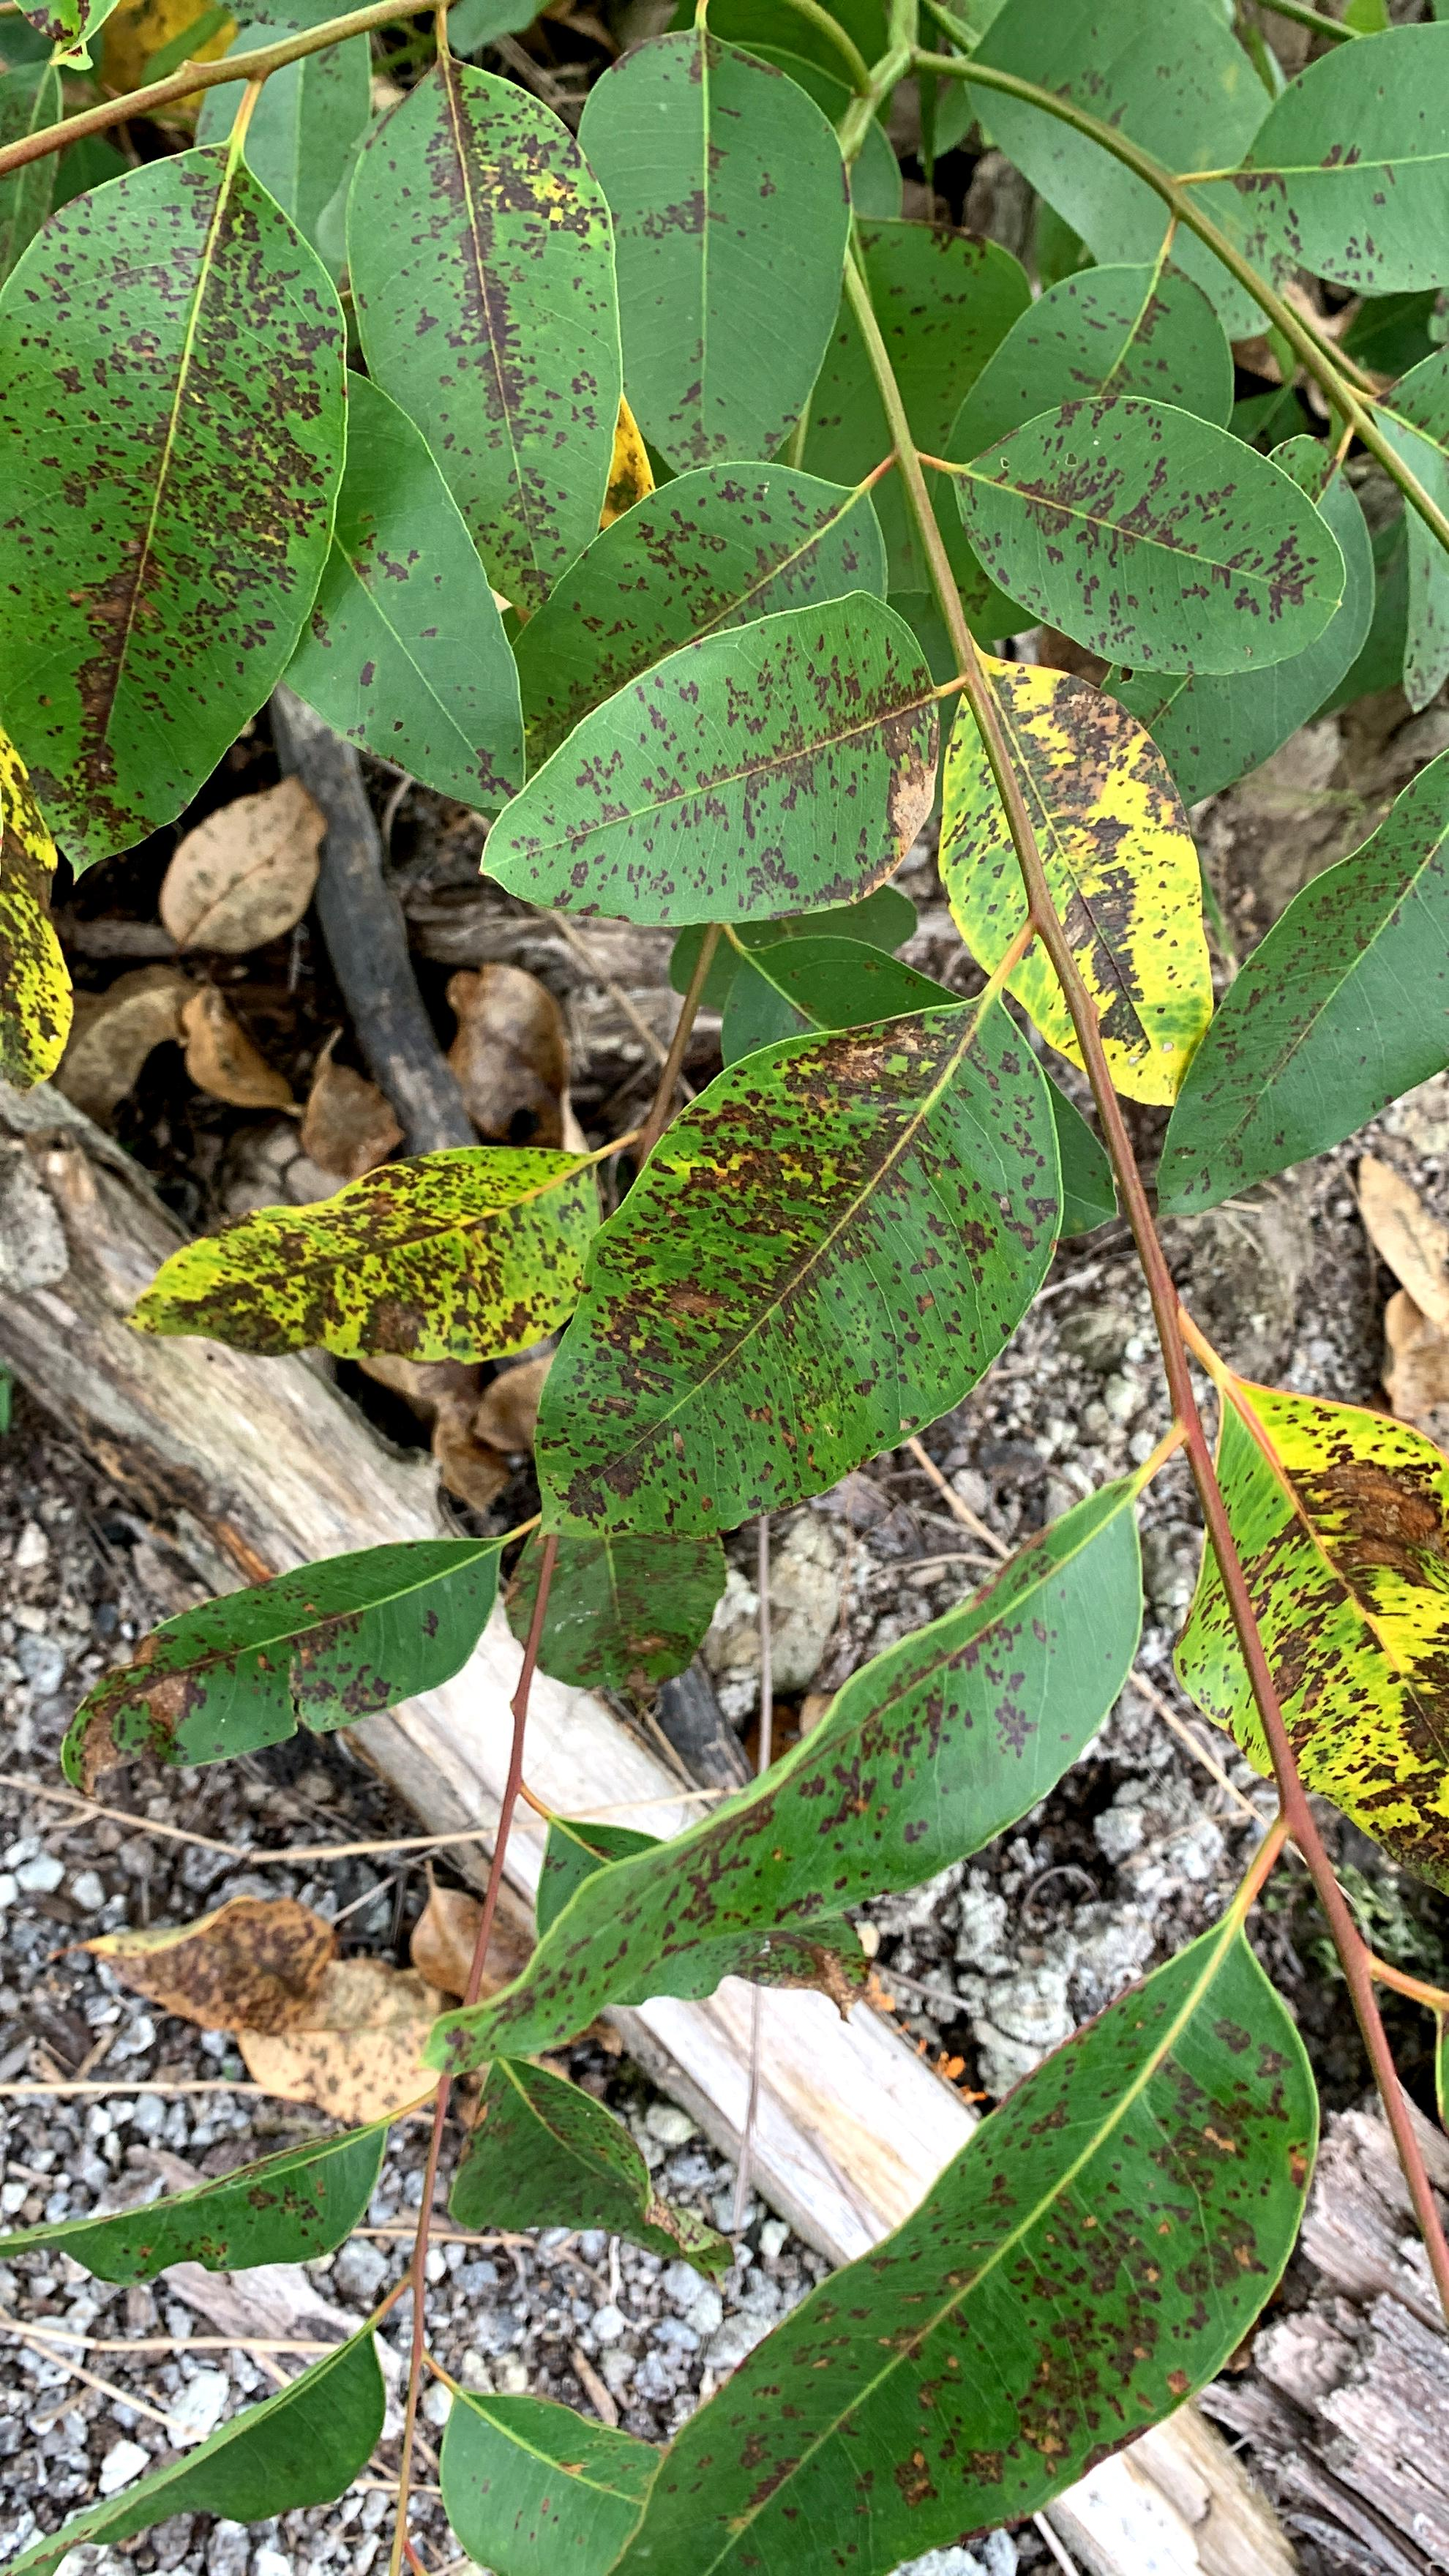Xanthomonas: (462, 1497, 1092, 2093), (685, 2006, 1313, 2576), (517, 987, 1083, 1546), (0, 147, 350, 835), (471, 586, 954, 947), (359, 51, 633, 600), (138, 1120, 603, 1430), (916, 663, 1224, 1120), (584, 25, 847, 467), (1208, 1375, 1449, 1840), (936, 419, 1341, 656), (67, 1568, 410, 1790), (0, 727, 99, 1113), (1240, 113, 1394, 306), (1054, 242, 1217, 421)
